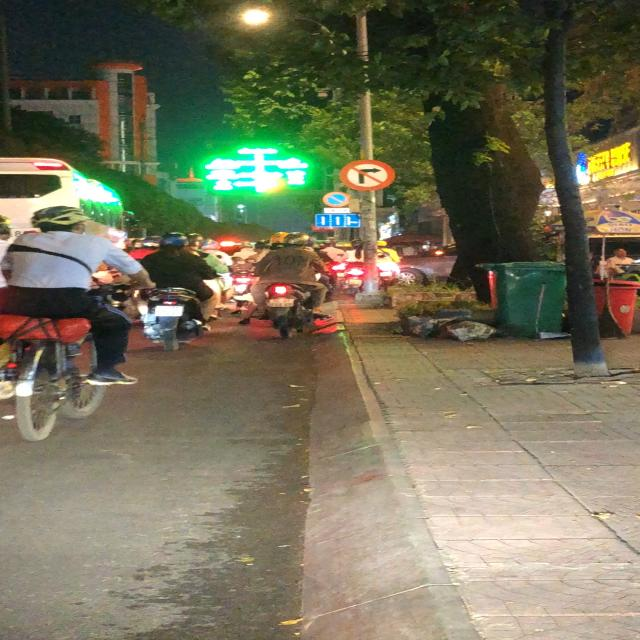Bien bao cam re phai: (338, 159, 399, 192)
